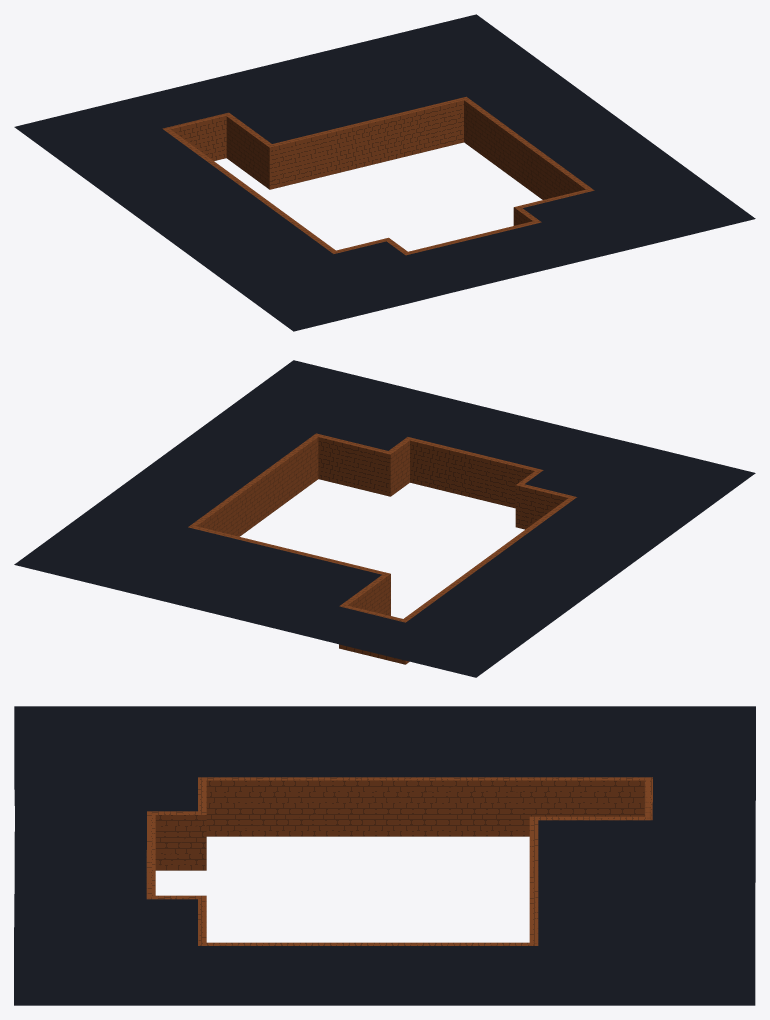
File: LastLevel.fbx
3 views of the same model, one above another, from view 1: azimuth 30°, elevation 25°; view 2: azimuth 150°, elevation 25°; view 3: azimuth 270°, elevation 25° (orthographic). The views are drawn at different scales.
Visible parts, largest first — view 1: Cube; view 2: Cube; view 3: Cube.
Part boxes in pixels (bbox=[...]): Cube: bbox=[14, 14, 755, 331]; Cube: bbox=[14, 360, 755, 677]; Cube: bbox=[14, 706, 755, 1005].
Size of the model in its own units: 16649 by 17451 by 1447.
